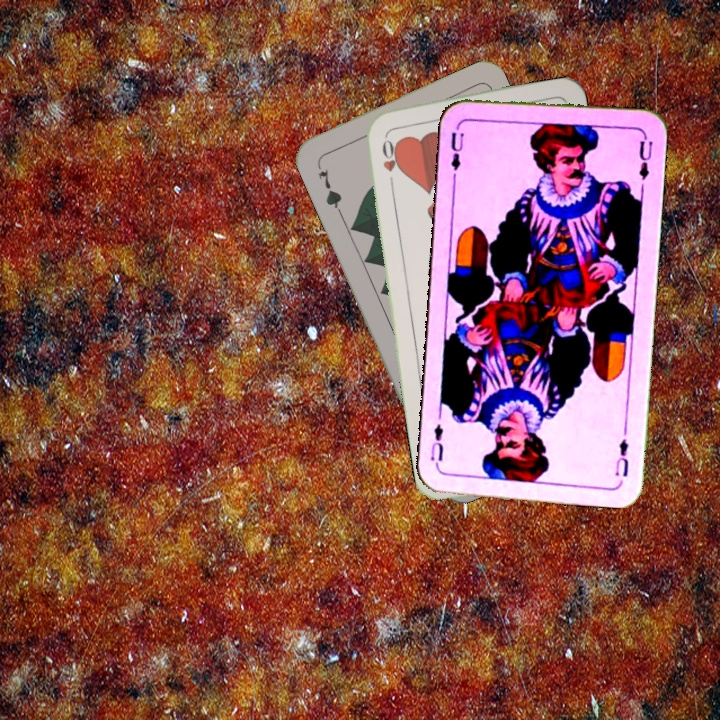EU: (446, 121, 467, 173), (611, 435, 631, 479)
G7: (314, 165, 345, 214)
HO: (378, 130, 400, 189)
